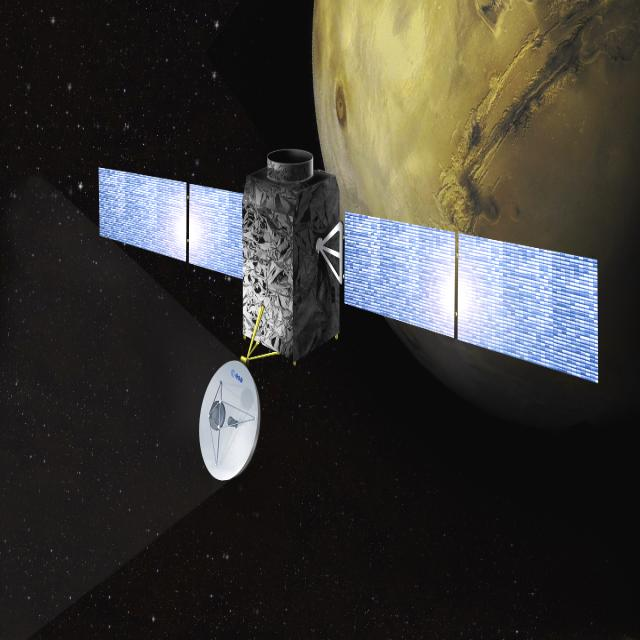satellite: (78, 112, 611, 507)
